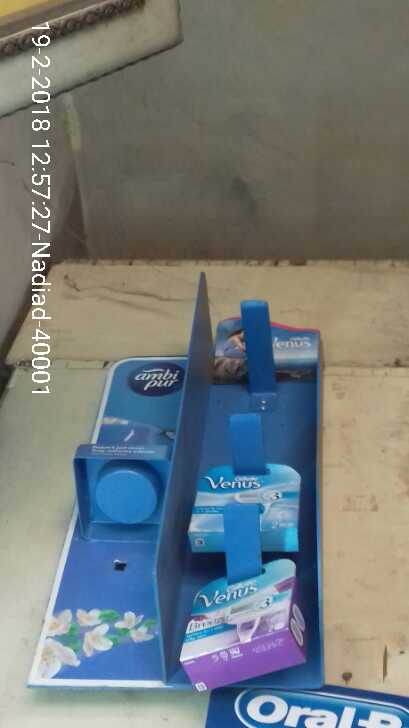venus: (176, 557, 314, 696), (187, 465, 305, 551)
